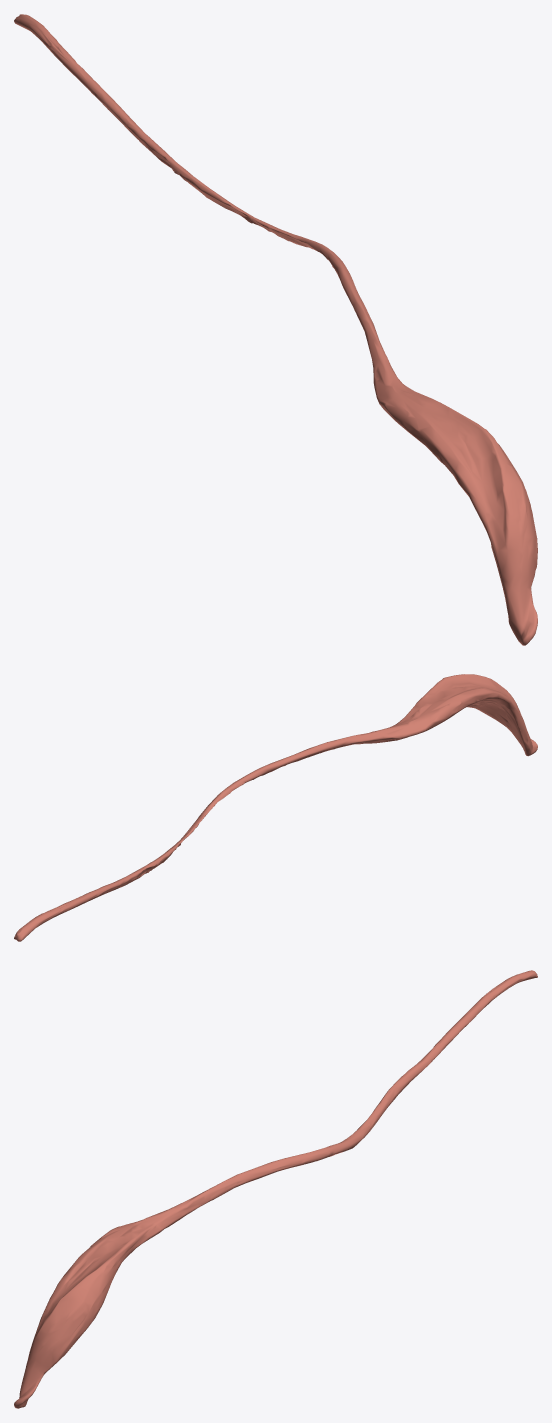
The picture shows the model from 3 angles, top to bottom: view 1: azimuth 30°, elevation 25°; view 2: azimuth 150°, elevation 25°; view 3: azimuth 330°, elevation 25°; orthographic projection. The views are drawn at different scales.
Visible parts, largest first — view 1: 右侧跖肌; view 2: 右侧跖肌; view 3: 右侧跖肌.
Part boxes in pixels (left/top/right/bottom): 右侧跖肌: left=14, top=14, right=537, bottom=645; 右侧跖肌: left=14, top=674, right=537, bottom=941; 右侧跖肌: left=14, top=970, right=537, bottom=1408.
Bounding box in the file's own units: 0.0809 × 0.1174 × 0.7107.
